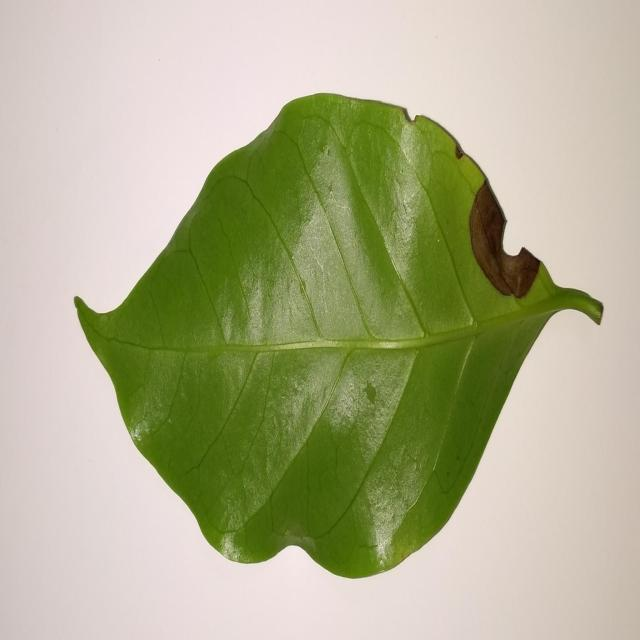phoma: (469, 174, 541, 299)
